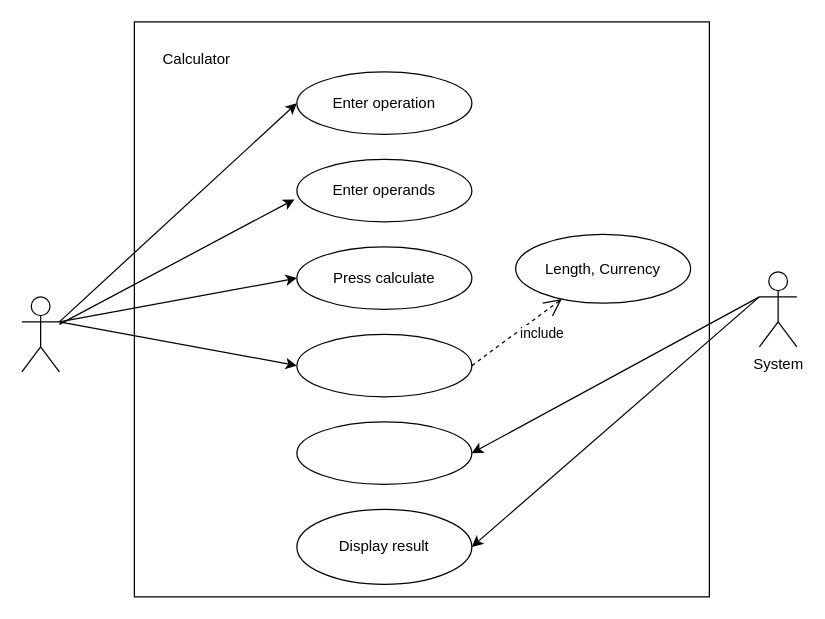
Some shapes in this 825 by 619 pixel diagram are drawn without their labels. The shapes that lost their labels are listed below. From the top down, each one's centre as x and y in pixels, then its label:
At point 40,334: "User".
At point 384,365: "Do conversions".
At point 384,452: "Store results".
